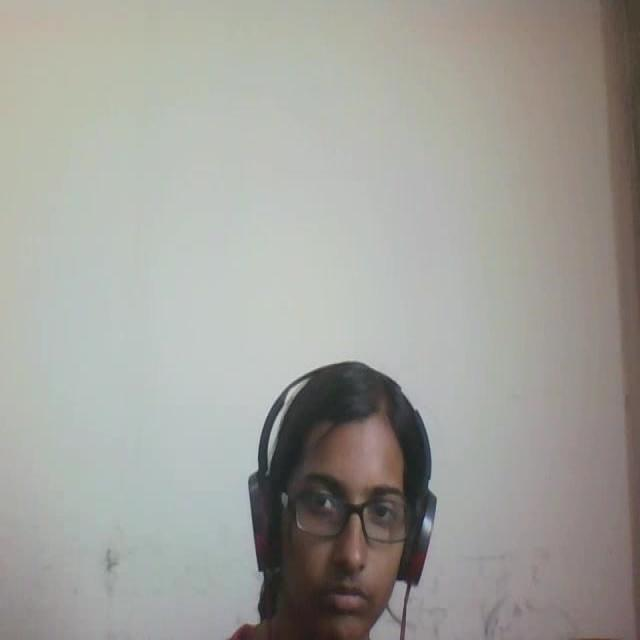Engaged: (214, 346, 466, 640)
